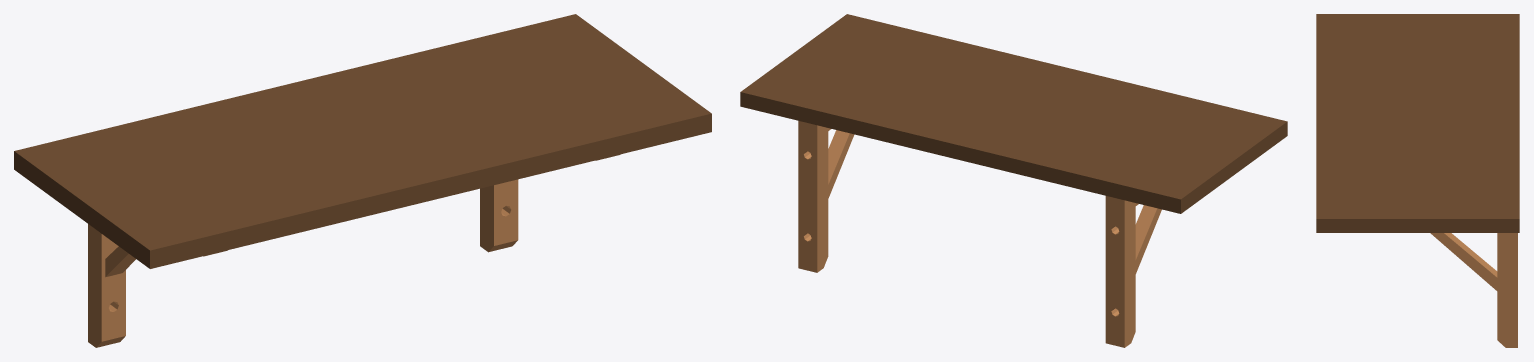
Rendered from MP_Shelf_Asset.fbx.
The picture shows the model from 3 angles, left to right: view 1: azimuth 30°, elevation 25°; view 2: azimuth 150°, elevation 25°; view 3: azimuth 270°, elevation 25°; orthographic projection. The views are drawn at different scales.
Parts seen in each view (by area): view 1: Cube, Shelf; view 2: Cube, Shelf; view 3: Cube, Shelf.
Boxes of the visible parts, left/top/right/bottom form: Cube: left=14, top=14, right=711, bottom=268; Shelf: left=88, top=154, right=620, bottom=347; Cube: left=740, top=14, right=1287, bottom=213; Shelf: left=798, top=121, right=1161, bottom=347; Cube: left=1316, top=14, right=1519, bottom=232; Shelf: left=1430, top=233, right=1517, bottom=347.
Size of the model in its own units: 48.76 by 17.24 by 20.45.
